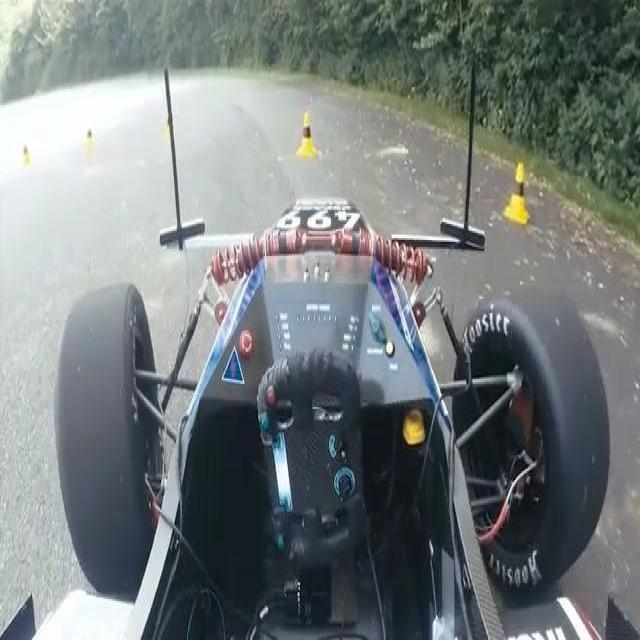yellow_cone: (500, 157, 532, 230), (294, 107, 320, 165), (80, 121, 98, 162), (164, 112, 176, 142)
